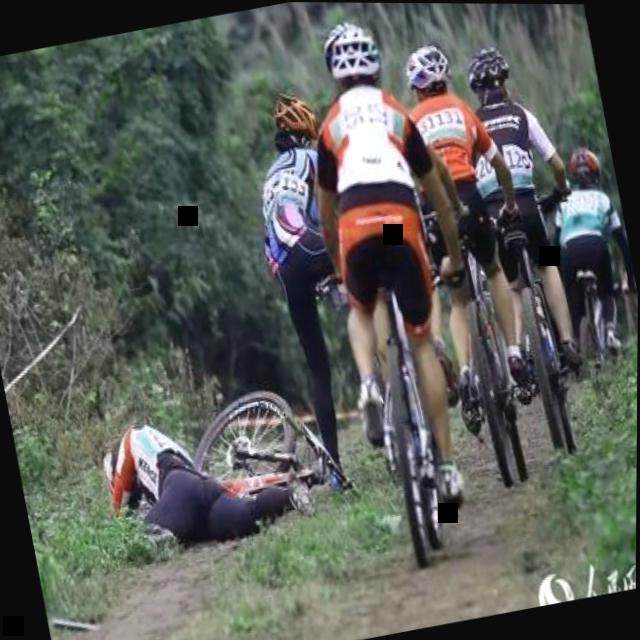Fall-Detected: (78, 377, 320, 573)
